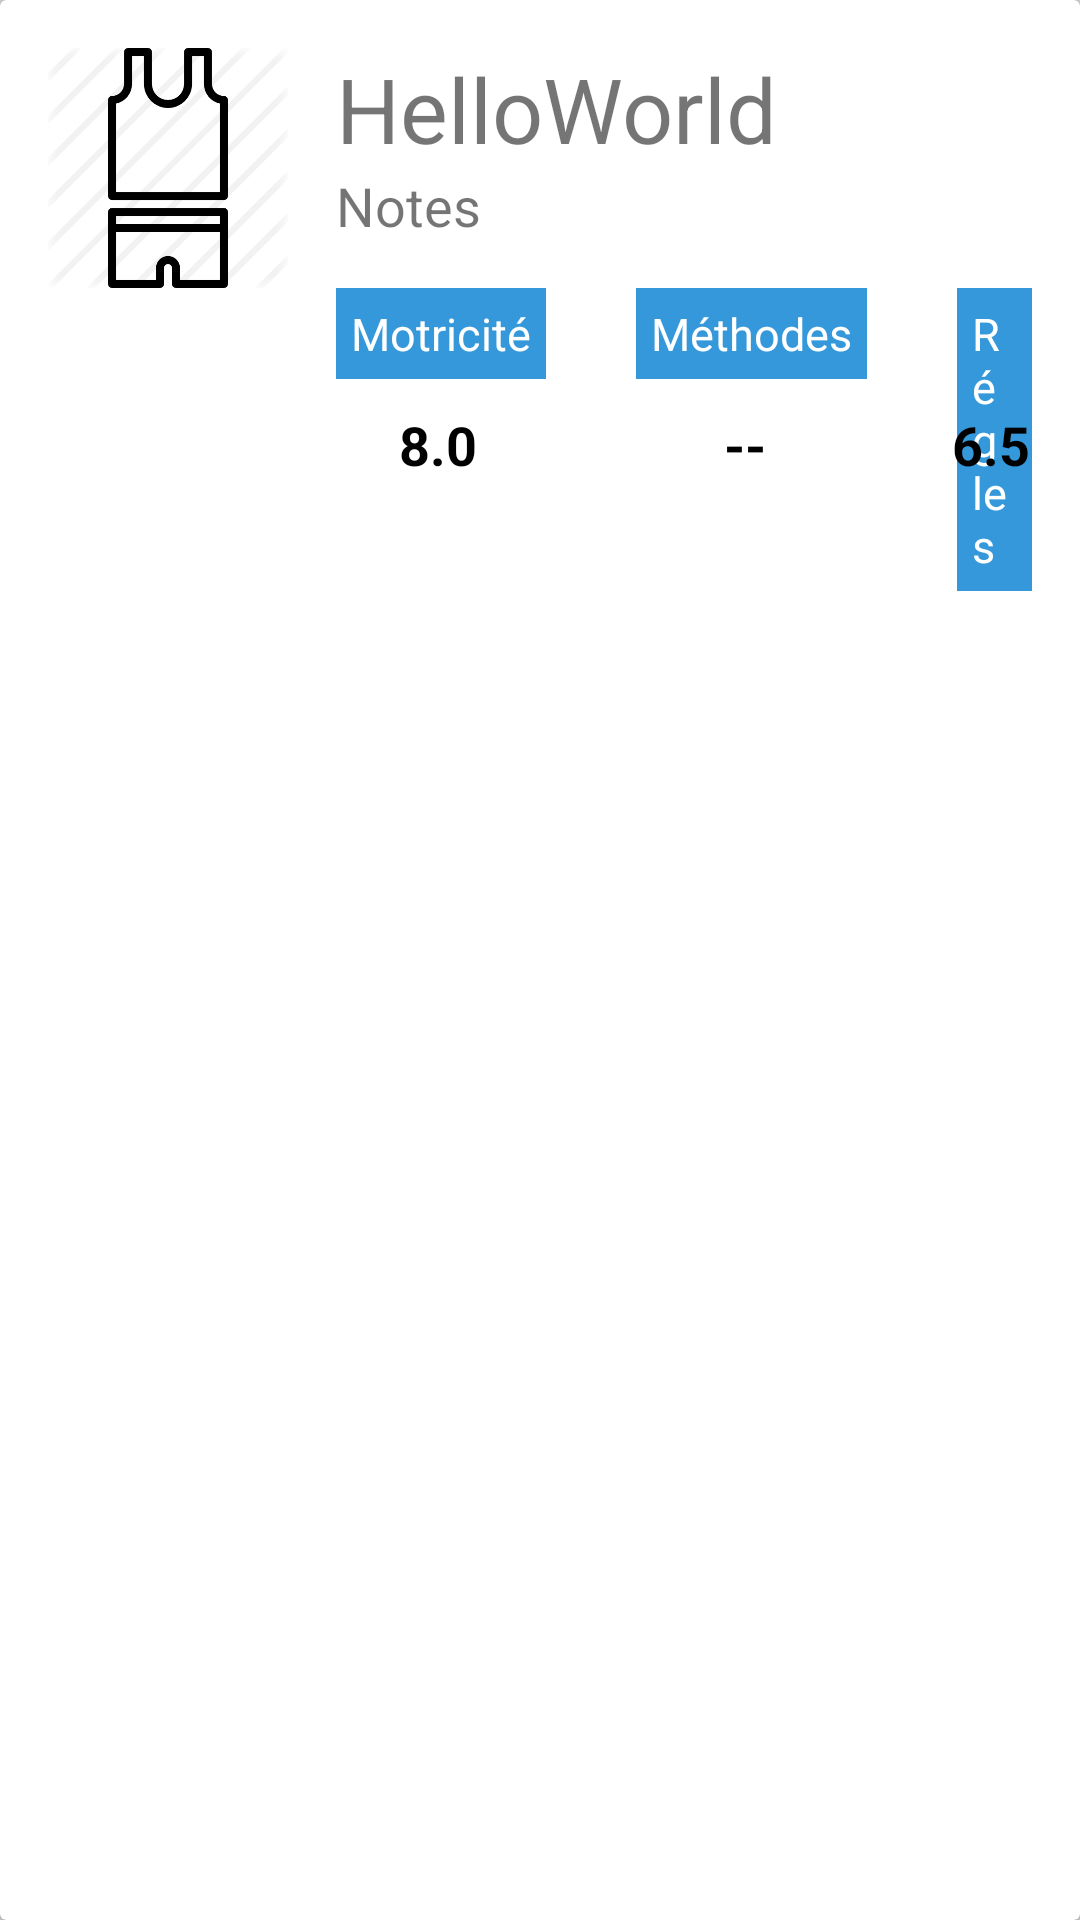

Icons on this 1080 x 1920 Android screen, each with the point to tap as (x=x, y=y):
player: (x=168, y=168)
